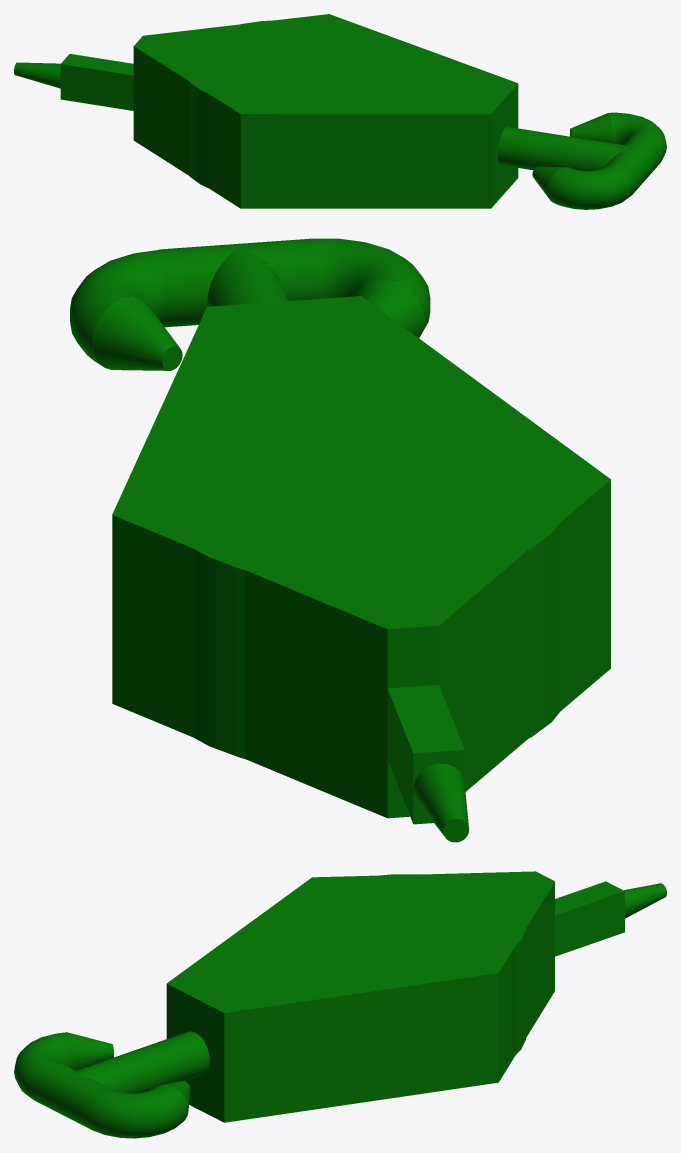
Rendered from Image-1710907747281-2281184328768_CRANE-BLOCK-LAYDOWN.fbx.
3 renders of one model, top to bottom at view 1: azimuth 30°, elevation 25°; view 2: azimuth 150°, elevation 25°; view 3: azimuth 270°, elevation 25°, orthographic. The views are drawn at different scales.
Visible parts, largest first — view 1: PYRAMID 2 of STRUCTURE /CRANE-BLOCK-LAYDOWN, CYLINDER 1 of STRUCTURE /CRANE-BLOCK-LAYDOWN, PYRAMID 1 of STRUCTURE /CRANE-BLOCK-LAYDOWN, CYLINDER 2 of STRUCTURE /CRANE-BLOCK-LAYDOWN, BOX 1 of STRUCTURE /CRANE-BLOCK-LAYDOWN, CTORUS 2 of STRUCTURE /CRANE-BLOCK-LAYDOWN, CYLINDER 3 of STRUCTURE /CRANE-BLOCK-LAYDOWN, CTORUS 1 of STRUCTURE /CRANE-BLOCK-LAYDOWN, CONE 1 of STRUCTURE /CRANE-BLOCK-LAYDOWN, CONE 3 of STRUCTURE /CRANE-BLOCK-LAYDOWN, CONE 2 of STRUCTURE /CRANE-BLOCK-LAYDOWN; view 2: PYRAMID 1 of STRUCTURE /CRANE-BLOCK-LAYDOWN, PYRAMID 2 of STRUCTURE /CRANE-BLOCK-LAYDOWN, CYLINDER 1 of STRUCTURE /CRANE-BLOCK-LAYDOWN, CYLINDER 3 of STRUCTURE /CRANE-BLOCK-LAYDOWN, BOX 1 of STRUCTURE /CRANE-BLOCK-LAYDOWN, CTORUS 1 of STRUCTURE /CRANE-BLOCK-LAYDOWN, CONE 3 of STRUCTURE /CRANE-BLOCK-LAYDOWN, CTORUS 2 of STRUCTURE /CRANE-BLOCK-LAYDOWN, CYLINDER 2 of STRUCTURE /CRANE-BLOCK-LAYDOWN, CONE 1 of STRUCTURE /CRANE-BLOCK-LAYDOWN, CONE 2 of STRUCTURE /CRANE-BLOCK-LAYDOWN; view 3: PYRAMID 2 of STRUCTURE /CRANE-BLOCK-LAYDOWN, CYLINDER 1 of STRUCTURE /CRANE-BLOCK-LAYDOWN, PYRAMID 1 of STRUCTURE /CRANE-BLOCK-LAYDOWN, CYLINDER 2 of STRUCTURE /CRANE-BLOCK-LAYDOWN, CTORUS 1 of STRUCTURE /CRANE-BLOCK-LAYDOWN, BOX 1 of STRUCTURE /CRANE-BLOCK-LAYDOWN, CYLINDER 3 of STRUCTURE /CRANE-BLOCK-LAYDOWN, CTORUS 2 of STRUCTURE /CRANE-BLOCK-LAYDOWN, CONE 2 of STRUCTURE /CRANE-BLOCK-LAYDOWN, CONE 1 of STRUCTURE /CRANE-BLOCK-LAYDOWN.
Part boxes in pixels (<box>): PYRAMID 2 of STRUCTURE /CRANE-BLOCK-LAYDOWN: <box>240,14,518,208</box>; CYLINDER 1 of STRUCTURE /CRANE-BLOCK-LAYDOWN: <box>182,20,388,188</box>; PYRAMID 1 of STRUCTURE /CRANE-BLOCK-LAYDOWN: <box>133,14,328,208</box>; CYLINDER 2 of STRUCTURE /CRANE-BLOCK-LAYDOWN: <box>498,126,631,170</box>; BOX 1 of STRUCTURE /CRANE-BLOCK-LAYDOWN: <box>60,54,133,110</box>; CTORUS 2 of STRUCTURE /CRANE-BLOCK-LAYDOWN: <box>547,164,636,209</box>; CYLINDER 3 of STRUCTURE /CRANE-BLOCK-LAYDOWN: <box>604,132,663,196</box>; CTORUS 1 of STRUCTURE /CRANE-BLOCK-LAYDOWN: <box>609,112,666,157</box>; CONE 1 of STRUCTURE /CRANE-BLOCK-LAYDOWN: <box>14,62,60,88</box>; CONE 3 of STRUCTURE /CRANE-BLOCK-LAYDOWN: <box>570,113,612,143</box>; CONE 2 of STRUCTURE /CRANE-BLOCK-LAYDOWN: <box>532,166,566,201</box>; PYRAMID 1 of STRUCTURE /CRANE-BLOCK-LAYDOWN: <box>112,479,610,818</box>; PYRAMID 2 of STRUCTURE /CRANE-BLOCK-LAYDOWN: <box>112,296,610,514</box>; CYLINDER 1 of STRUCTURE /CRANE-BLOCK-LAYDOWN: <box>156,410,569,758</box>; CYLINDER 3 of STRUCTURE /CRANE-BLOCK-LAYDOWN: <box>160,238,322,327</box>; BOX 1 of STRUCTURE /CRANE-BLOCK-LAYDOWN: <box>387,684,464,824</box>; CTORUS 1 of STRUCTURE /CRANE-BLOCK-LAYDOWN: <box>70,249,168,364</box>; CONE 3 of STRUCTURE /CRANE-BLOCK-LAYDOWN: <box>92,296,182,370</box>; CTORUS 2 of STRUCTURE /CRANE-BLOCK-LAYDOWN: <box>315,238,430,331</box>; CYLINDER 2 of STRUCTURE /CRANE-BLOCK-LAYDOWN: <box>207,247,288,306</box>; CONE 1 of STRUCTURE /CRANE-BLOCK-LAYDOWN: <box>413,763,469,842</box>; CONE 2 of STRUCTURE /CRANE-BLOCK-LAYDOWN: <box>354,278,424,337</box>; PYRAMID 2 of STRUCTURE /CRANE-BLOCK-LAYDOWN: <box>166,877,498,1122</box>; CYLINDER 1 of STRUCTURE /CRANE-BLOCK-LAYDOWN: <box>285,874,525,1055</box>; PYRAMID 1 of STRUCTURE /CRANE-BLOCK-LAYDOWN: <box>312,871,554,1082</box>; CYLINDER 2 of STRUCTURE /CRANE-BLOCK-LAYDOWN: <box>74,1031,209,1093</box>; CTORUS 1 of STRUCTURE /CRANE-BLOCK-LAYDOWN: <box>85,1085,188,1138</box>; BOX 1 of STRUCTURE /CRANE-BLOCK-LAYDOWN: <box>555,881,624,956</box>; CYLINDER 3 of STRUCTURE /CRANE-BLOCK-LAYDOWN: <box>27,1059,111,1129</box>; CTORUS 2 of STRUCTURE /CRANE-BLOCK-LAYDOWN: <box>14,1032,71,1098</box>; CONE 2 of STRUCTURE /CRANE-BLOCK-LAYDOWN: <box>67,1032,113,1070</box>; CONE 1 of STRUCTURE /CRANE-BLOCK-LAYDOWN: <box>623,883,666,918</box>.
Size of the model in its own units: 1.86 by 2.16 by 0.4.
